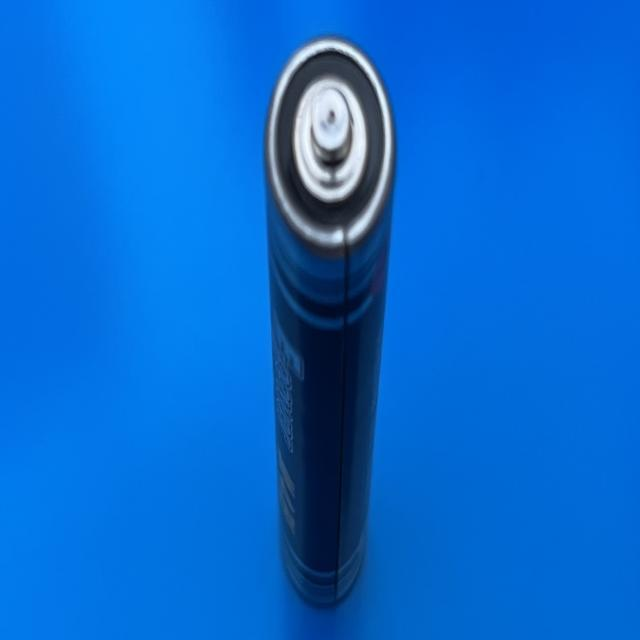hazardous waste: (264, 34, 402, 598)
